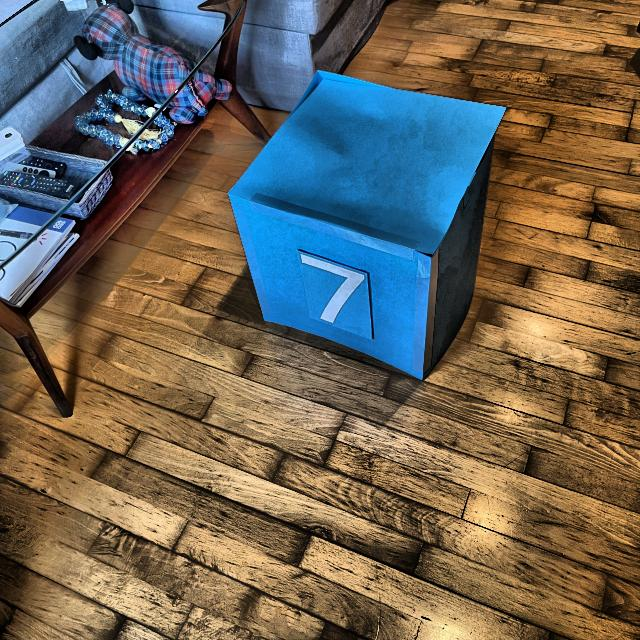blue box: (218, 64, 512, 387)
seven: (288, 240, 384, 331)
